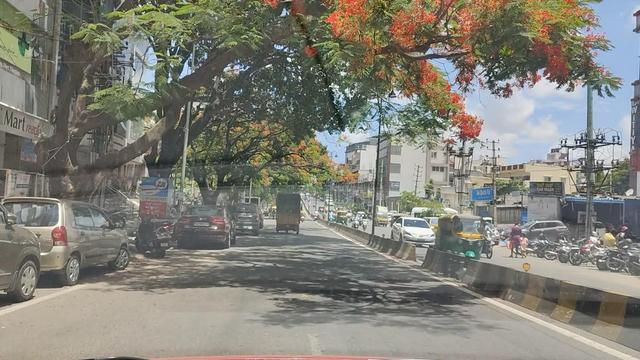HMV: (279, 191, 302, 233)
LMV: (177, 207, 230, 249)
